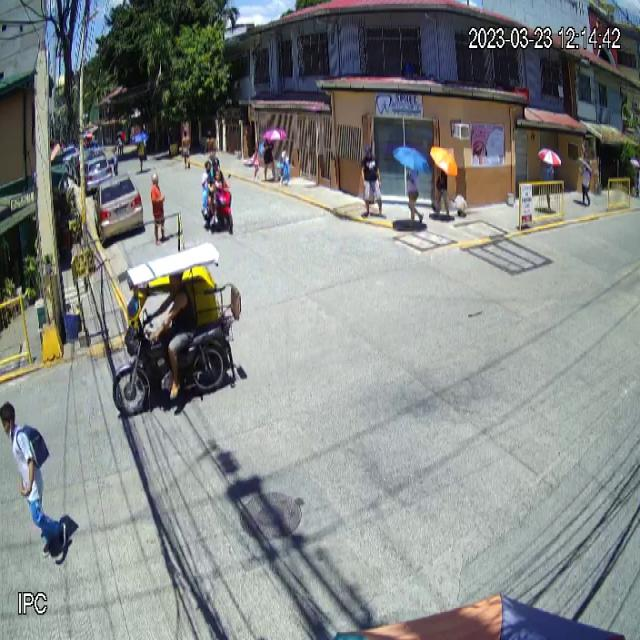Tricycle: (111, 242, 245, 418)
